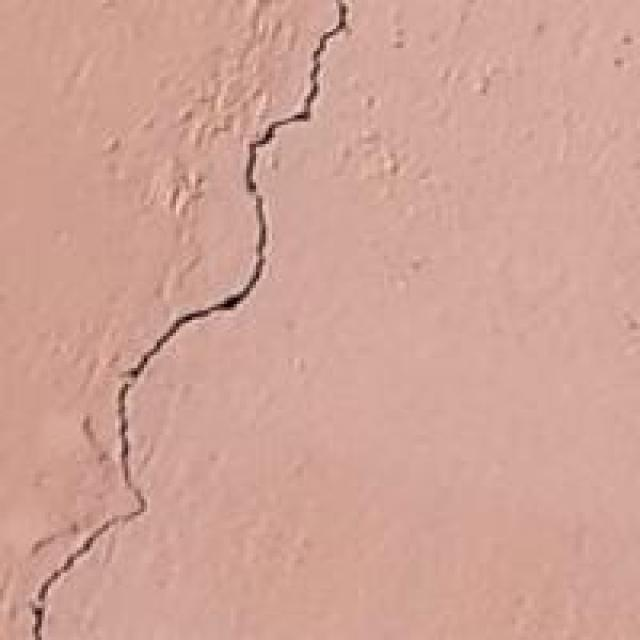crack: (19, 0, 368, 637)
